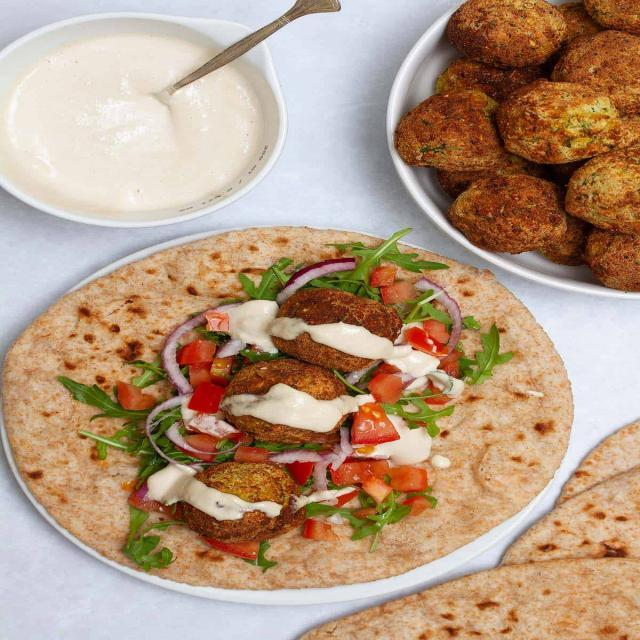flafel: (491, 79, 619, 181), (226, 358, 355, 448), (272, 287, 398, 373), (182, 463, 293, 549)
